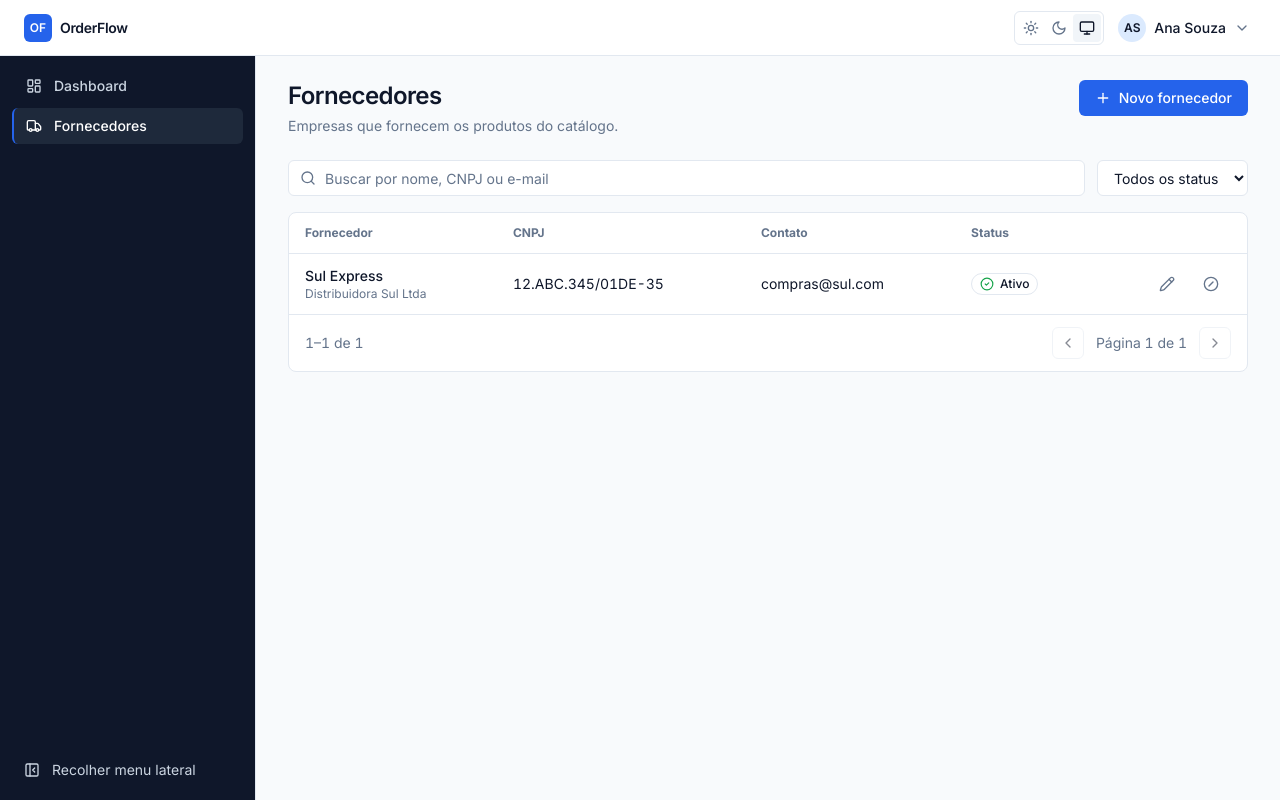
it: SuppliersPage › creates a supplier with a valid alphanumeric CNPJ
Click the button "Novo fornecedor": (1163, 98) [1079,80,1248,116]
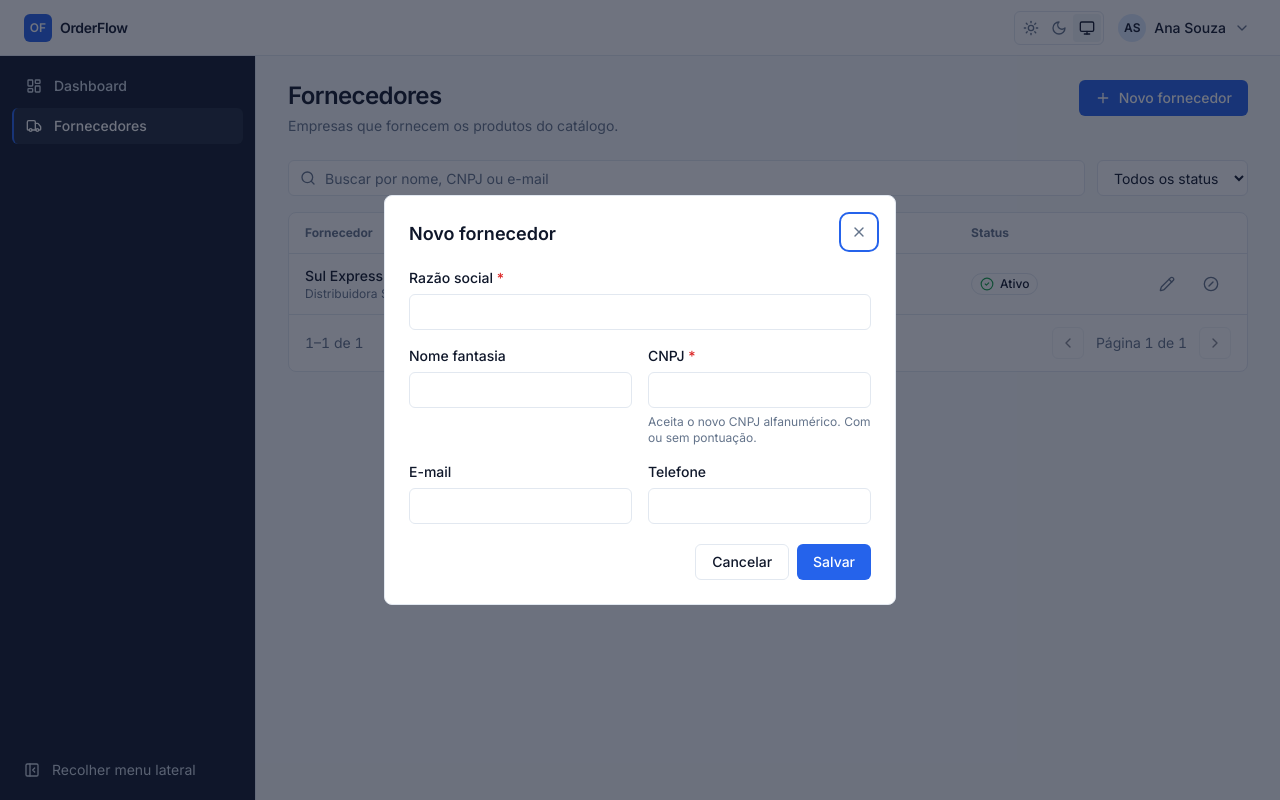
In the field labelled "Razão social *": (640, 312) [409,294,871,330], type "Distribuidora Sul Ltda"
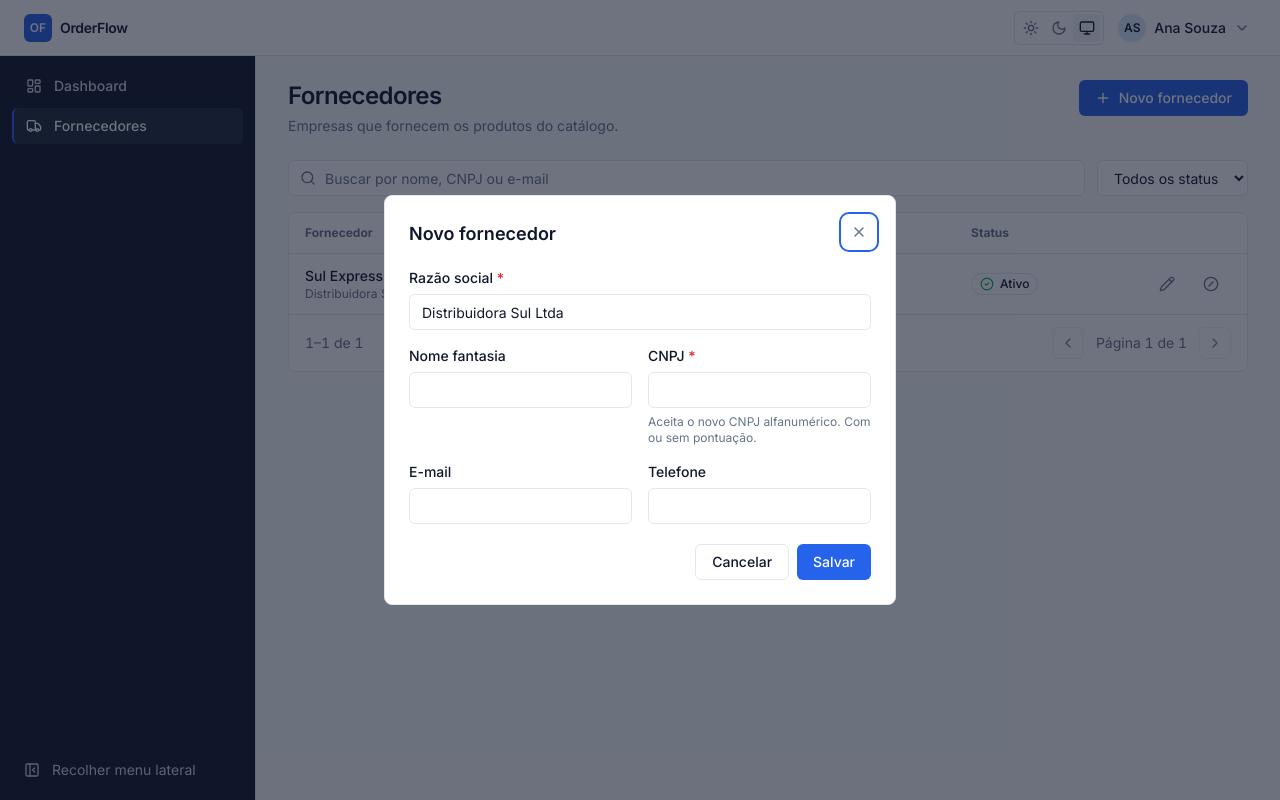
In the field labelled "CNPJ *": (760, 390) [648,372,871,408], type "12.ABC.345/01DE-35"
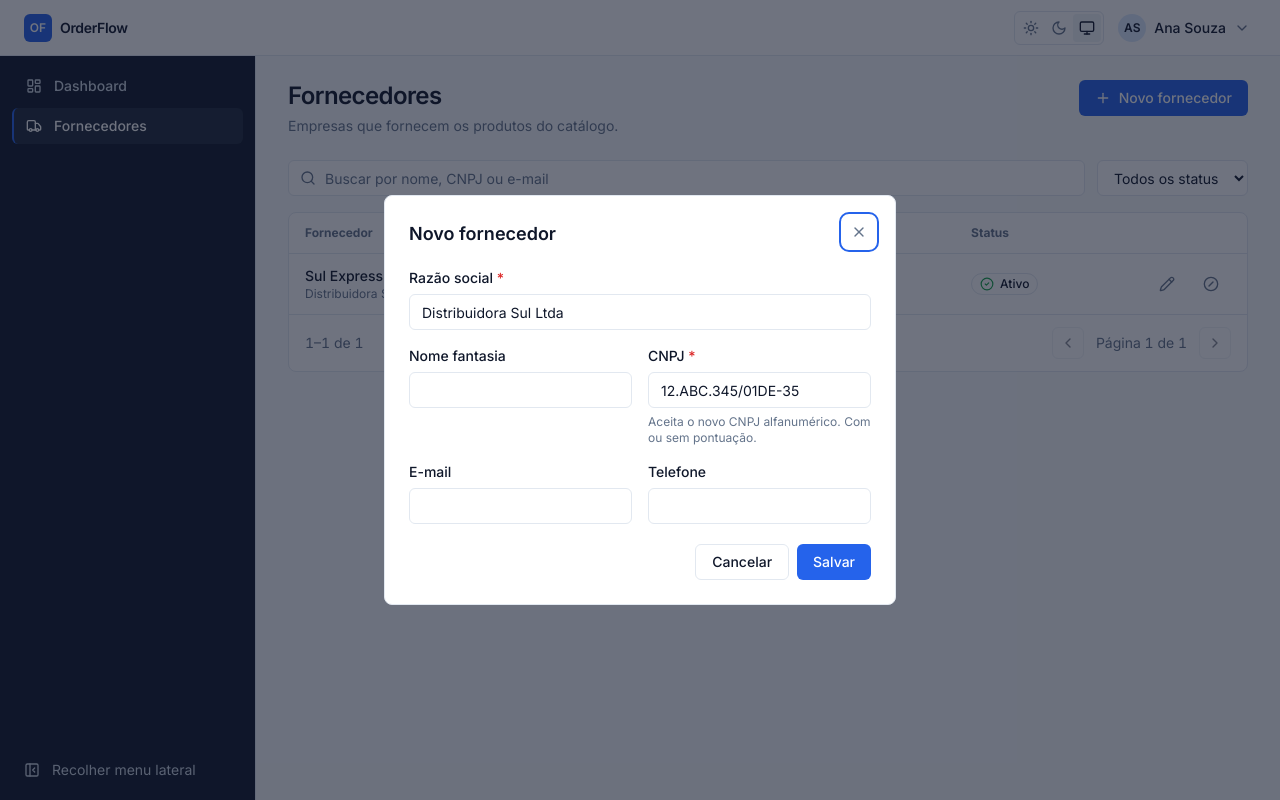
Submit the form with id "supplier-form", box [409,268,871,524]
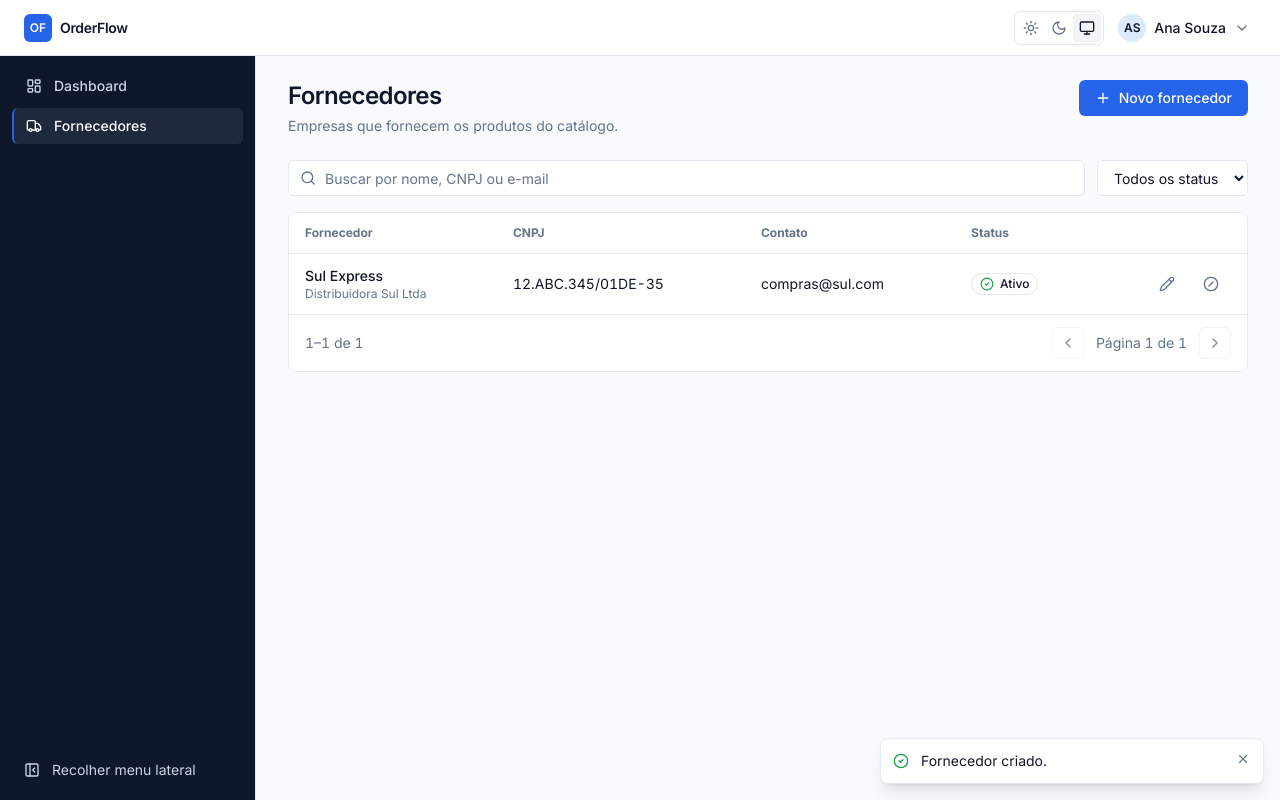
Check: the text "Fornecedor criado." is shown, box [921,752,1047,769]
